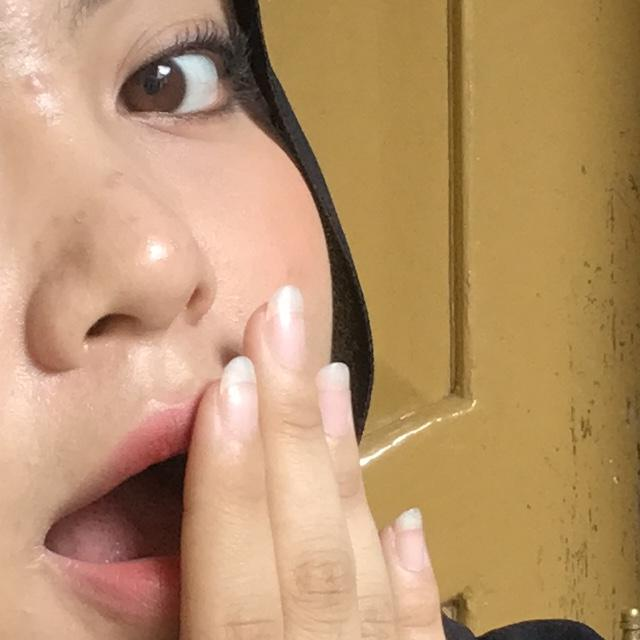ngantuk: (0, 296, 630, 640)
